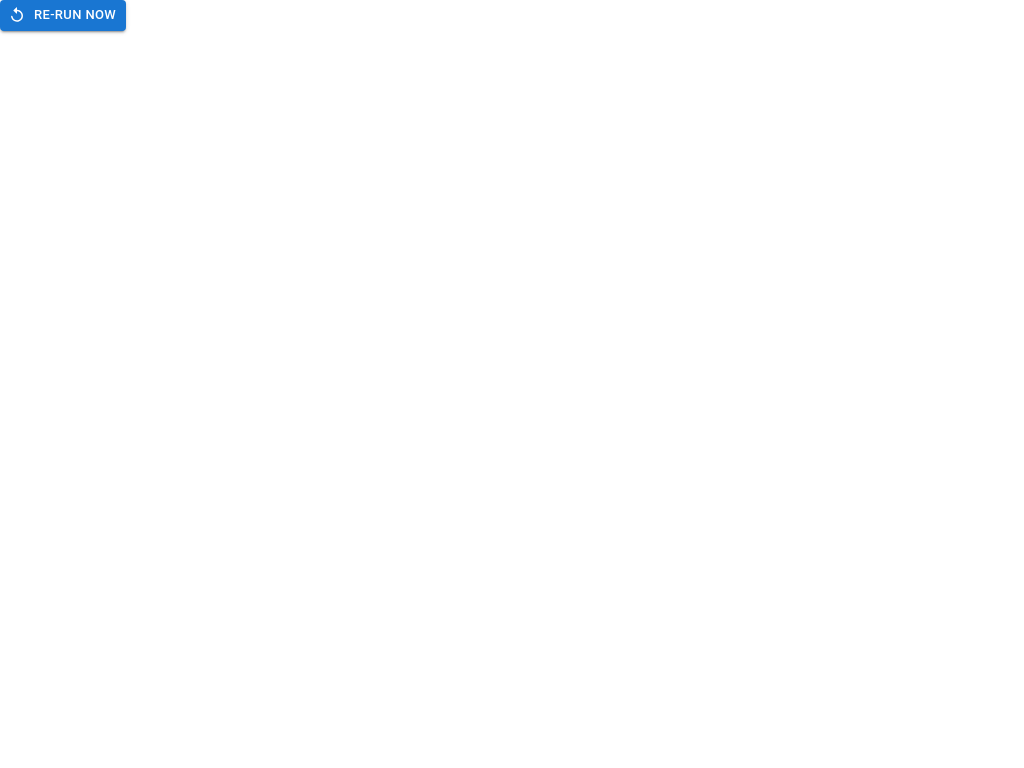
Test: RerunButton › confirms and then posts
The width and height of the screenshot is (1024, 768).
Later steps or results of the test are not shown.
Step 1. Click the button "Re-run now" → (63, 15), box [0,0,126,31]
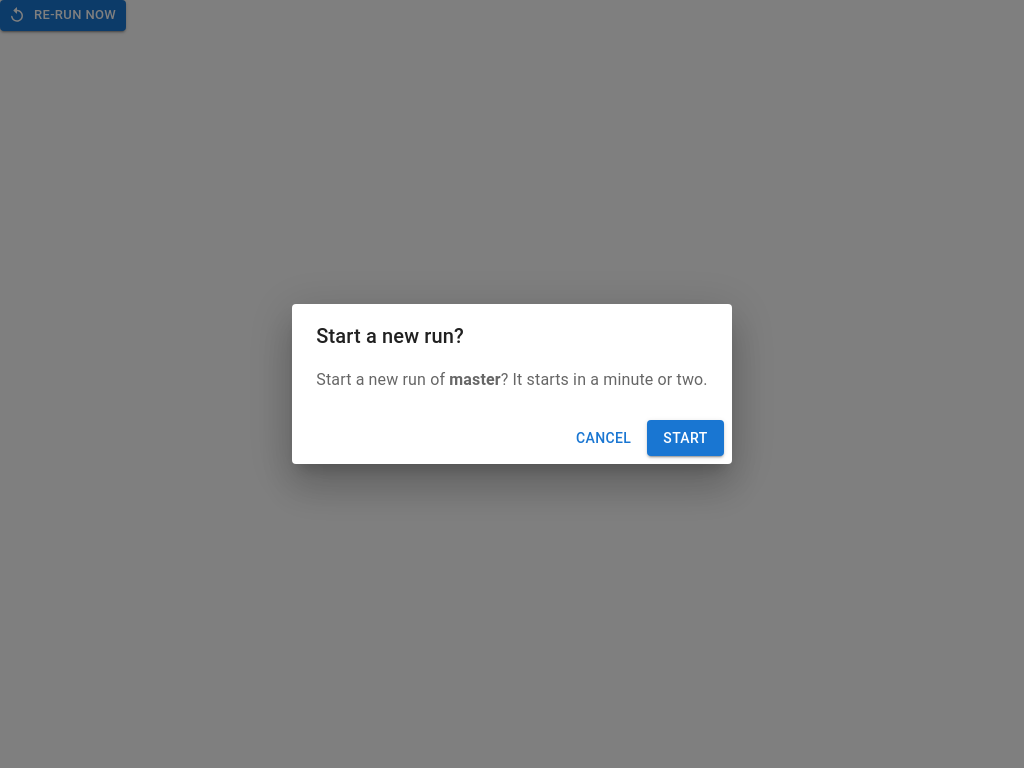
Expected: the text "Start a new run of master? It starts in a minute or two." is shown, [316,368,708,392]
